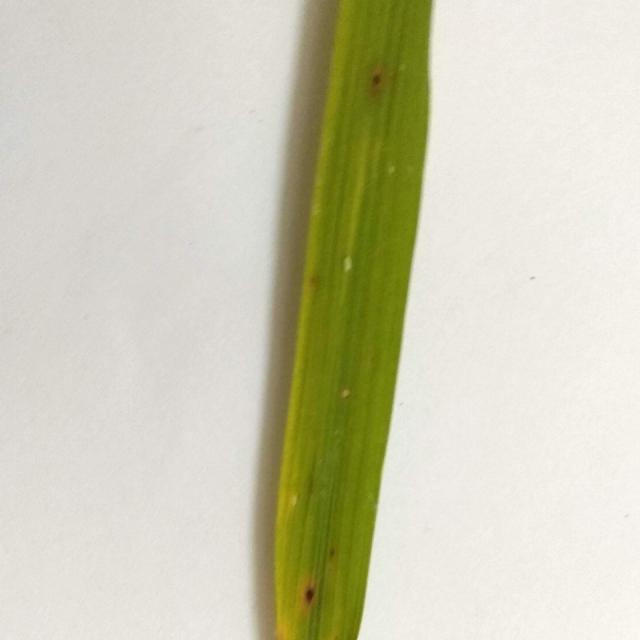Brown spot: (296, 577, 328, 617), (364, 62, 396, 98), (323, 543, 342, 566)
